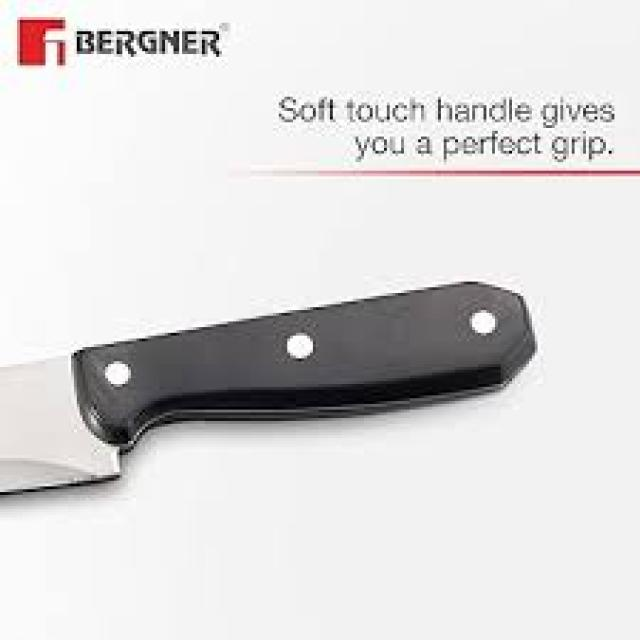Knife: (0, 276, 535, 501)
